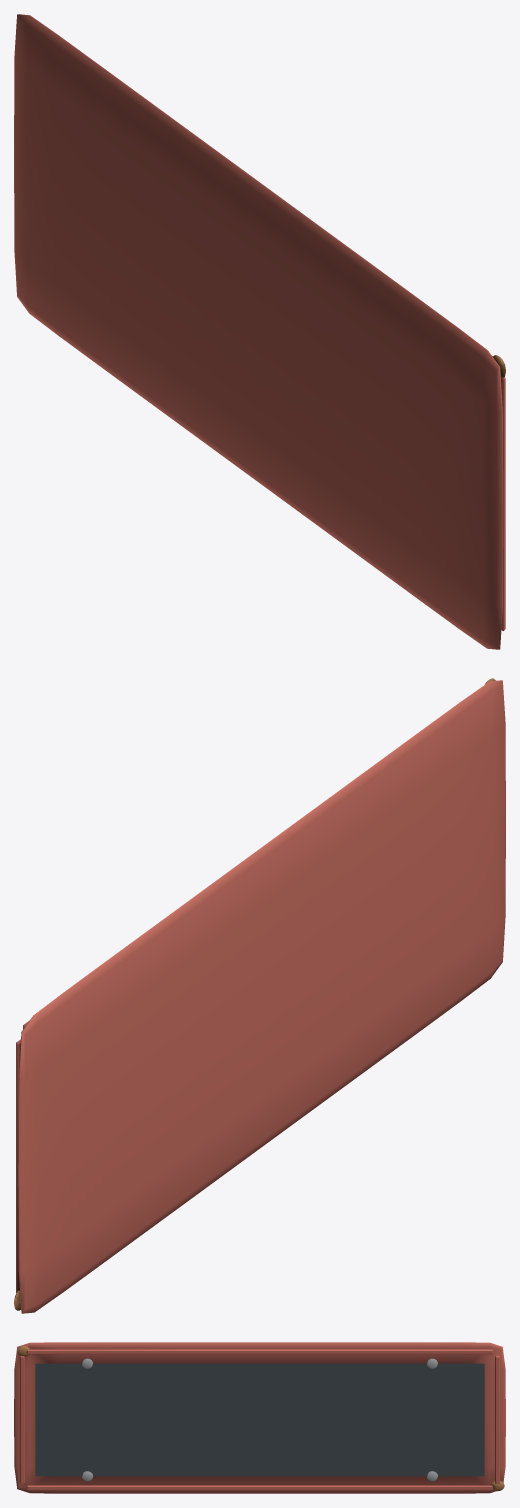
The model's file is nd_plate.glb.
The picture shows the model from 3 angles, top to bottom: view 1: azimuth 30°, elevation 25°; view 2: azimuth 150°, elevation 25°; view 3: azimuth 270°, elevation 25°; orthographic projection. The views are drawn at different scales.
Visible parts, largest first — view 1: PART; view 2: PART; view 3: P_text, PART.
Boxes of the visible parts, x1,y1,x2,y2 form: PART: (14, 14, 505, 649); PART: (14, 678, 505, 1313); P_text: (35, 1363, 484, 1476); PART: (14, 1342, 505, 1493).
Size of the model in its own units: 0.0108 by 0.194 by 0.5707.
